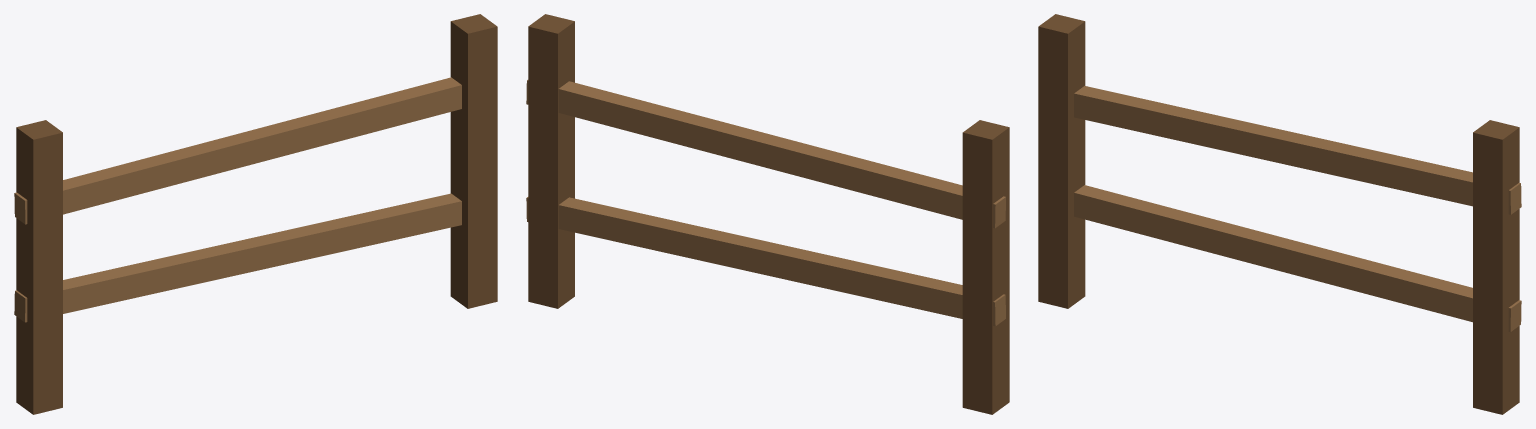
Rendered from rail_fence.glb.
The picture shows the model from 3 angles, left to right: view 1: azimuth 30°, elevation 25°; view 2: azimuth 150°, elevation 25°; view 3: azimuth 330°, elevation 25°; orthographic projection.
Visible parts, largest first — view 1: rail_fence; view 2: rail_fence; view 3: rail_fence.
Boxes of the visible parts, x1,y1,x2,y2 form: rail_fence: (14, 14, 497, 414); rail_fence: (526, 14, 1009, 414); rail_fence: (1038, 14, 1521, 414).
Bounding box in the file's own units: 2.05 × 1.15 × 0.13.
